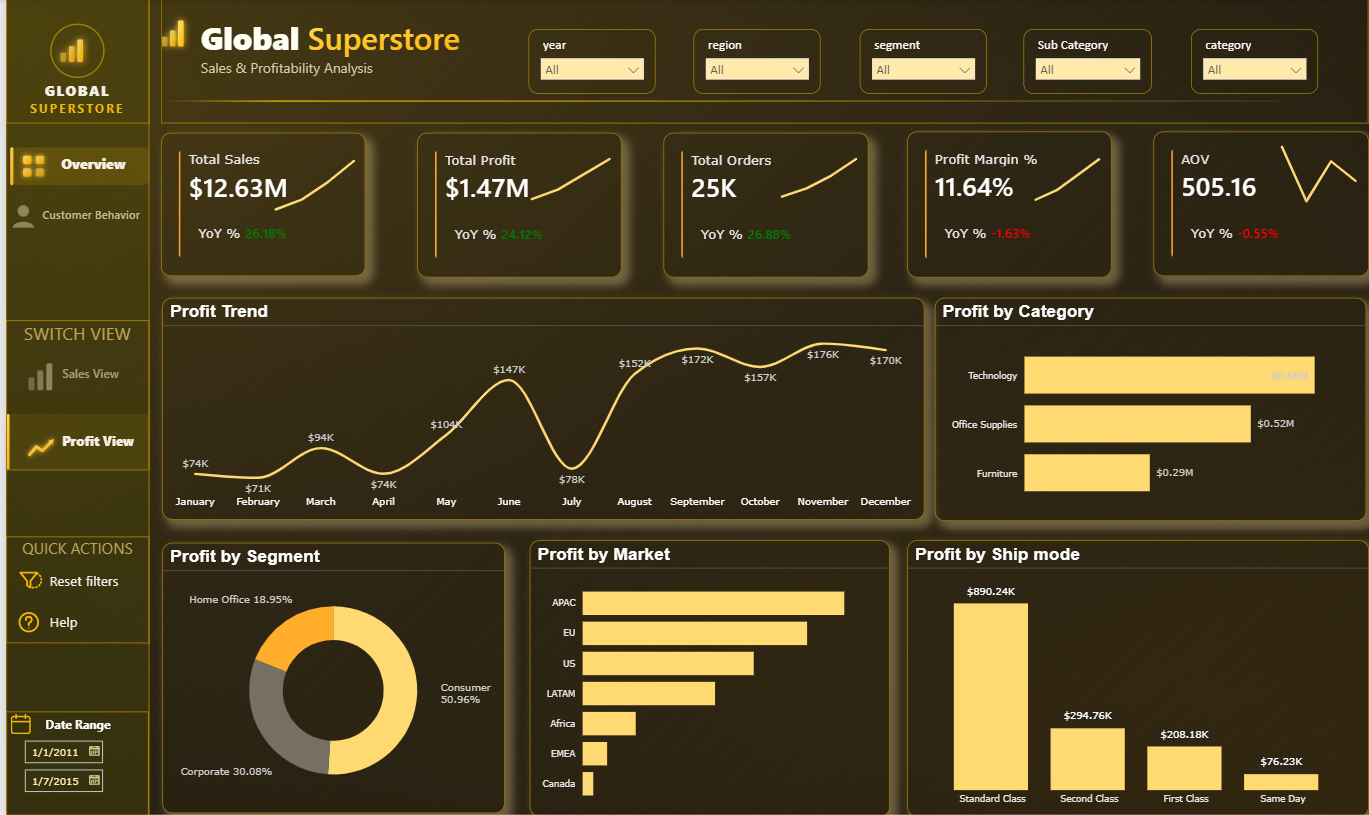

This screenshot's page, from the dashboard's own definition file:
{"tool":"powerbi","page":{"name":"Overview","canvas":[1665,1000],"ordinal":0},"visuals":[{"type":"cardVisual","title":"Total Sales","fields":{"Data":["_All Measures.Total Sales"]},"box":[189.5,163.7,249.7,175.3],"z":0},{"type":"image","title":"sales active","box":[0,425.3,175.3,67.8],"z":0,"group":"g1"},{"type":"lineChart","title":"Trend Sales","fields":{"Category":["dim_date.full_date.Variation.Date Hierarchy.Year","dim_date.full_date.Variation.Date Hierarchy.Quarter","dim_date.full_date.Variation.Date Hierarchy.Month","dim_date.full_date.Variation.Date Hierarchy.Day"],"Y":["_All Measures.Total Sales"]},"box":[315.1,163.7,125.7,107.5],"z":1000},{"type":"image","title":"profit INactive","box":[0,508.6,175.3,67.8],"z":1000,"group":"g1"},{"type":"cardVisual","fields":{"Data":["_All Measures.AOV"]},"box":[1402.1,162,262.9,176.9],"z":2000},{"type":"clusteredBarChart","title":"Sales by Category","fields":{"Category":["dim_product.category","dim_product.sub_category"],"Y":["_All Measures.Total Sales"]},"box":[1134.2,364.2,530.8,274.5],"z":2000,"group":"g1"},{"type":"cardVisual","title":"Total Sales","fields":{"Data":["_All Measures.Orders Count"]},"box":[803.6,163.7,250,176.7],"z":3000},{"type":"donutChart","title":"Sales by Segment","fields":{"Category":["dim_customer.segment"],"Y":["_All Measures.Total Sales"]},"box":[190.1,664.3,421.2,336],"z":3000,"group":"g1"},{"type":"lineChart","fields":{"Category":["dim_date.full_date.Variation.Date Hierarchy.Year","dim_date.full_date.Variation.Date Hierarchy.Quarter","dim_date.full_date.Variation.Date Hierarchy.Month","dim_date.full_date.Variation.Date Hierarchy.Day"],"Y":["_All Measures.AOV"]},"box":[1543.7,158.7,120,105],"z":4000},{"type":"lineChart","title":"Sales Trend","fields":{"Category":["dim_date.full_date.Variation.Date Hierarchy.Year","dim_date.full_date.Variation.Date Hierarchy.Year1","dim_date.full_date.Variation.Date Hierarchy.Quarter","dim_date.full_date.Variation.Date Hierarchy.Month"],"Y":["_All Measures.Total Sales"]},"box":[189.9,362.1,929.2,276.1],"z":4000,"group":"g1"},{"type":"lineChart","fields":{"Category":["dim_date.full_date.Variation.Date Hierarchy.Year","dim_date.full_date.Variation.Date Hierarchy.Quarter","dim_date.full_date.Variation.Date Hierarchy.Month","dim_date.full_date.Variation.Date Hierarchy.Day"],"Y":["_All Measures.Total Orders"]},"box":[932.5,165.3,120.7,87.6],"z":5000},{"type":"clusteredBarChart","title":"Sales by Market ","fields":{"Category":["dim_location.market"],"Y":["_All Measures.Total Sales"]},"box":[639.6,661.6,438.2,339],"z":5000,"group":"g1"},{"type":"image","box":[189.8,0,1474.9,152.1],"z":6000},{"type":"columnChart","title":"Sales by Ship mode","fields":{"Category":["dim_shipping.ship_mode"],"Y":["_All Measures.Total Sales"]},"box":[1102.6,663.3,562.2,337.3],"z":6000,"group":"g1"},{"type":"shape","box":[0,0,175.3,1000.3],"z":7000},{"type":"cardVisual","title":"Total Sales","fields":{"Data":["_All Measures.Total Profit"]},"box":[502.6,163.7,249.7,176.9],"z":8000},{"type":"lineChart","fields":{"Category":["dim_date.full_date.Variation.Date Hierarchy.Year","dim_date.full_date.Variation.Date Hierarchy.Quarter","dim_date.full_date.Variation.Date Hierarchy.Month","dim_date.full_date.Variation.Date Hierarchy.Day"],"Y":["_All Measures.Total Profit"]},"box":[628.3,163.7,125,96.7],"z":9000},{"type":"cardVisual","title":"Total Sales","fields":{"Data":["_All Measures.Profit Margin %"]},"box":[1101.2,162,249.7,178.6],"z":10000},{"type":"lineChart","fields":{"Category":["dim_date.full_date.Variation.Date Hierarchy.Year","dim_date.full_date.Variation.Date Hierarchy.Quarter","dim_date.full_date.Variation.Date Hierarchy.Month","dim_date.full_date.Variation.Date Hierarchy.Day"],"Y":["_All Measures.Total Profit"]},"box":[1243.4,163.7,107.5,97.6],"z":11000},{"type":"slicer","fields":{"Values":["dim_date.year"]},"box":[637.9,36.4,155.4,79.4],"z":12000},{"type":"slicer","fields":{"Values":["dim_location.region"]},"box":[839.6,36.4,155.4,79.4],"z":13000},{"type":"slicer","fields":{"Values":["dim_product.category"]},"box":[1448.1,36.4,155.4,79.4],"z":14000},{"type":"slicer","fields":{"Values":["dim_product.sub_category"]},"box":[1243,36.4,157.1,79.4],"z":15000},{"type":"slicer","fields":{"Values":["dim_customer.segment"]},"box":[1043,36.4,155.4,79.4],"z":16000},{"type":"textbox","box":[0,391.9,175.3,183.5],"z":17000},{"type":"image","box":[0,178.6,175.3,51.3],"z":18000},{"type":"image","box":[0,239.7,175.3,51.3],"z":19000},{"type":"image","box":[0,0,175.3,152.1],"z":20000},{"type":"slicer","fields":{"Values":["dim_date.full_date"]},"box":[0,891.8,175.3,107.5],"z":21000},{"type":"image","box":[0,873.6,36.2,25],"z":22000},{"type":"textbox","box":[36.2,871.1,102.5,30],"z":23000},{"type":"shape","box":[0,870.5,174.5,127.6],"z":24000},{"type":"textbox","box":[0,657.4,175.3,130.6],"z":25000},{"type":"image","box":[0,737.7,175.3,50],"z":26000},{"type":"image","box":[0,687.1,175.3,50],"z":27000},{"type":"group","id":"g1","title":"Sales Group","box":[0,362.1,1664.9,638.5],"z":28000}]}

Visuals, with their boxes on the page's 1665x1000 design canvas (x1, y1, x2, y2). These are canvas units, not pixel positions in the 1369x815 screenshot, which may show the page scaled, cropped or inside an application window:
"Total Sales" cardVisual: 190/164/439/339
"sales active" image: 0/425/175/493
"Trend Sales" lineChart: 315/164/441/271
"profit INactive" image: 0/509/175/576
cardVisual - _All Measures.AOV: 1402/162/1665/339
"Sales by Category" clusteredBarChart: 1134/364/1665/639
"Total Sales" cardVisual: 804/164/1054/340
"Sales by Segment" donutChart: 190/664/611/1000
lineChart - dim_date.full_date.Variation.Date Hierarchy.Year x dim_date.full_date.Variation.Date Hierarchy.Quarter: 1544/159/1664/264
"Sales Trend" lineChart: 190/362/1119/638
lineChart - dim_date.full_date.Variation.Date Hierarchy.Year x dim_date.full_date.Variation.Date Hierarchy.Quarter: 932/165/1053/253
"Sales by Market " clusteredBarChart: 640/662/1078/1001
image: 190/0/1665/152
"Sales by Ship mode" columnChart: 1103/663/1665/1001
shape: 0/0/175/1000
"Total Sales" cardVisual: 503/164/752/341
lineChart - dim_date.full_date.Variation.Date Hierarchy.Year x dim_date.full_date.Variation.Date Hierarchy.Quarter: 628/164/753/260
"Total Sales" cardVisual: 1101/162/1351/341
lineChart - dim_date.full_date.Variation.Date Hierarchy.Year x dim_date.full_date.Variation.Date Hierarchy.Quarter: 1243/164/1351/261
slicer - dim_date.year: 638/36/793/116
slicer - dim_location.region: 840/36/995/116
slicer - dim_product.category: 1448/36/1604/116
slicer - dim_product.sub_category: 1243/36/1400/116
slicer - dim_customer.segment: 1043/36/1198/116
textbox: 0/392/175/575
image: 0/179/175/230
image: 0/240/175/291
image: 0/0/175/152
slicer - dim_date.full_date: 0/892/175/999
image: 0/874/36/899
textbox: 36/871/139/901
shape: 0/870/174/998
textbox: 0/657/175/788
image: 0/738/175/788
image: 0/687/175/737
"Sales Group" group: 0/362/1665/1001
